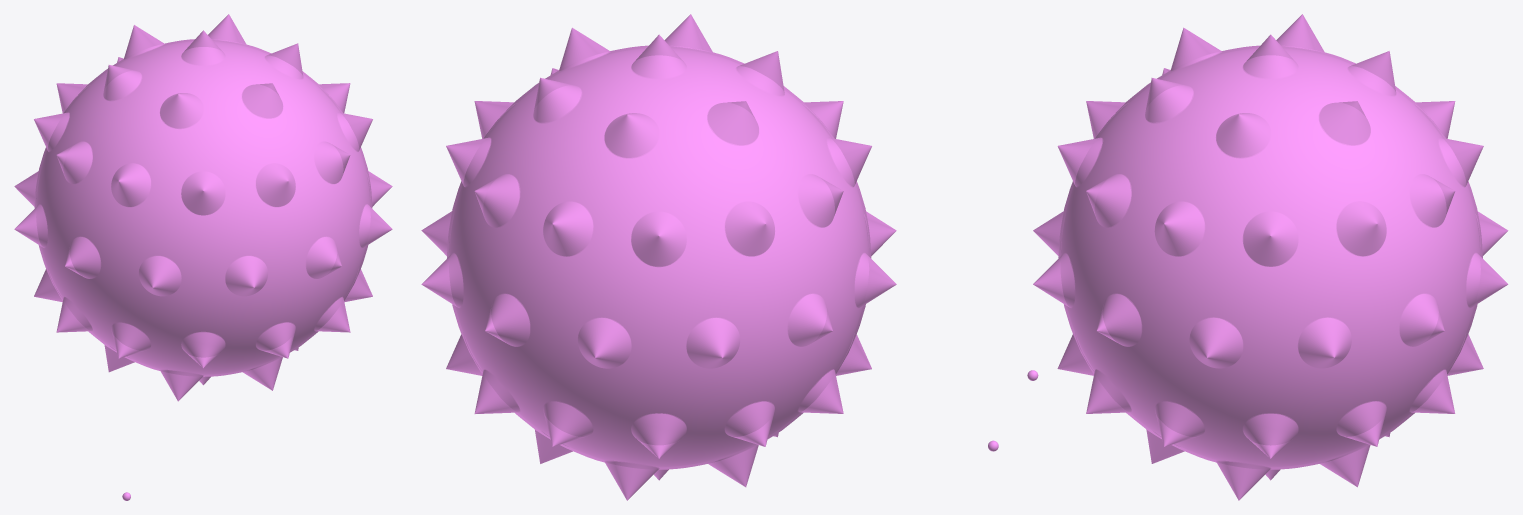
The model's file is bubble.fbx.
The picture shows the model from 3 angles, left to right: view 1: azimuth 30°, elevation 25°; view 2: azimuth 150°, elevation 25°; view 3: azimuth 270°, elevation 25°; orthographic projection. The views are drawn at different scales.
Visible parts, largest first — view 1: group_1, group_1.001, group_15, group_8, group_23, group_42, group_43, group_39, group_33, group_40, group_44, group_6 (+23 smaller); view 2: group_1, group_1.001, group_21, group_24, group_16, group_46, group_48, group_32, group_35, group_45, group_49, group_6 (+23 smaller); view 3: group_1, group_1.001, group_5, group_9, group_27, group_41, group_50, group_28, group_38, group_51, group_47, group_14 (+24 smaller).
Part boxes in pixels (x1,y1,x2,y2): group_1: (34,39,372,376); group_1.001: (37,41,369,374); group_15: (181,171,225,215); group_8: (111,163,150,206); group_23: (256,163,295,206); group_42: (139,256,181,296); group_43: (225,256,267,296); group_39: (160,93,203,128); group_33: (242,83,283,118); group_40: (65,236,100,278); group_44: (306,236,341,278); group_6: (56,141,92,183); group_1: (447,45,871,469); group_1.001: (450,48,868,466); group_21: (631,211,686,266); group_24: (543,201,593,256); group_16: (725,201,774,256); group_46: (578,317,631,368); group_48: (686,317,739,368); group_32: (604,113,659,158); group_35: (707,101,758,145); group_45: (485,293,530,346); group_49: (787,293,832,346); group_6: (798,174,843,227); group_1: (1058,45,1482,469); group_1.001: (1061,48,1479,466); group_5: (1243,211,1298,266); group_9: (1336,201,1386,256); group_27: (1154,201,1204,256); group_41: (1298,317,1351,368); group_50: (1189,317,1243,368); group_28: (1216,113,1270,158); group_38: (1319,101,1370,145); group_51: (1096,293,1141,346); group_47: (1399,293,1444,346); group_14: (1409,174,1455,227).
Size of the model in its own units: 456 by 462 by 446.
